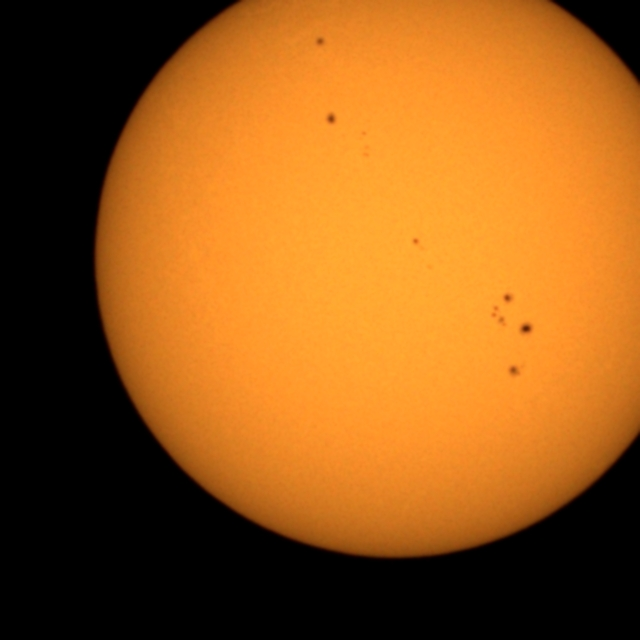sunspot: (489, 309, 535, 337), (490, 290, 516, 329), (506, 362, 525, 380), (517, 320, 535, 337), (359, 130, 371, 153), (324, 111, 338, 127), (501, 292, 515, 306), (362, 144, 372, 160), (315, 36, 326, 48), (411, 237, 422, 247), (360, 129, 368, 137)
